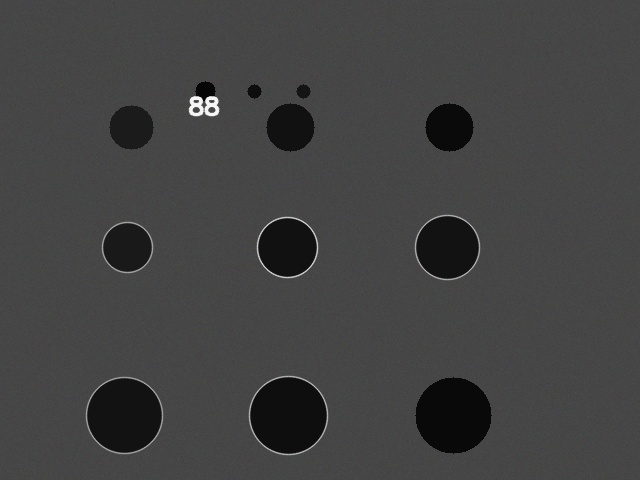hole: (249, 376, 327, 454), (86, 377, 162, 453), (415, 377, 491, 453), (415, 215, 479, 279), (257, 217, 317, 277), (102, 222, 152, 272), (266, 103, 314, 151), (425, 103, 473, 151), (109, 105, 153, 149), (195, 81, 215, 101), (247, 84, 261, 98), (296, 84, 310, 98)
